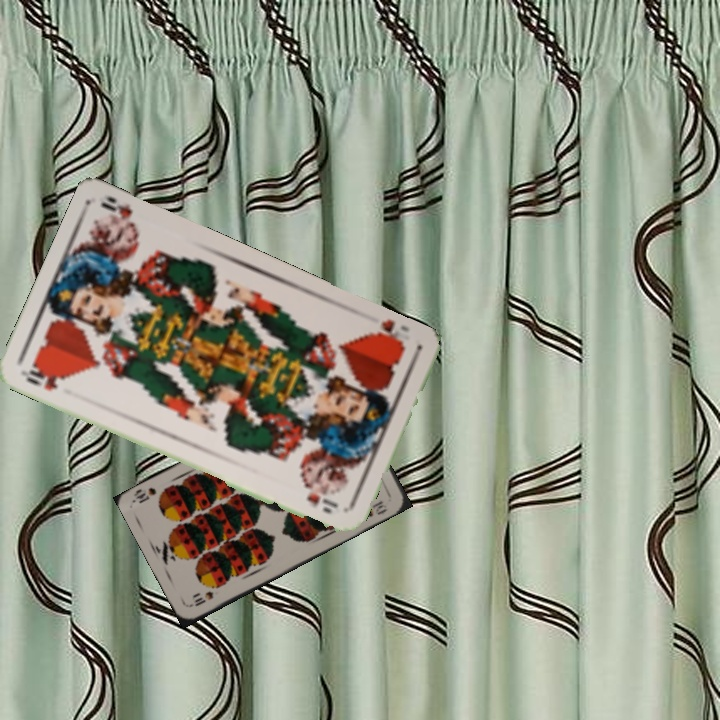HO: (365, 316, 408, 352), (20, 360, 66, 393)
S10: (190, 587, 216, 609)
